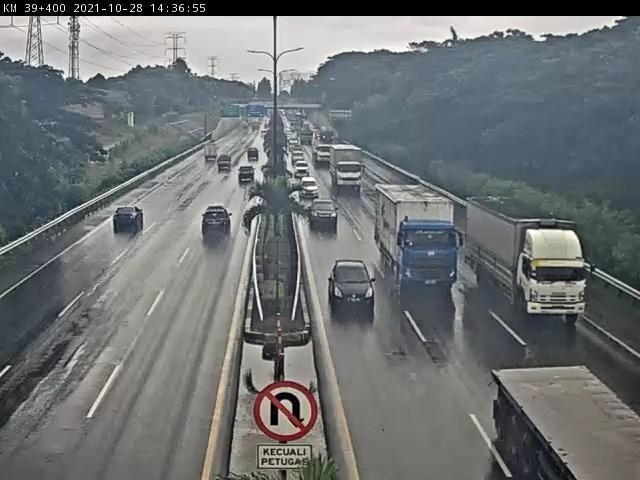car: (325, 253, 373, 311), (187, 206, 236, 249), (101, 209, 143, 246), (303, 198, 345, 233), (239, 170, 253, 194), (245, 148, 263, 166), (302, 173, 318, 191), (295, 158, 308, 172)
truck: (503, 230, 592, 325), (384, 191, 459, 285), (332, 147, 366, 188)
